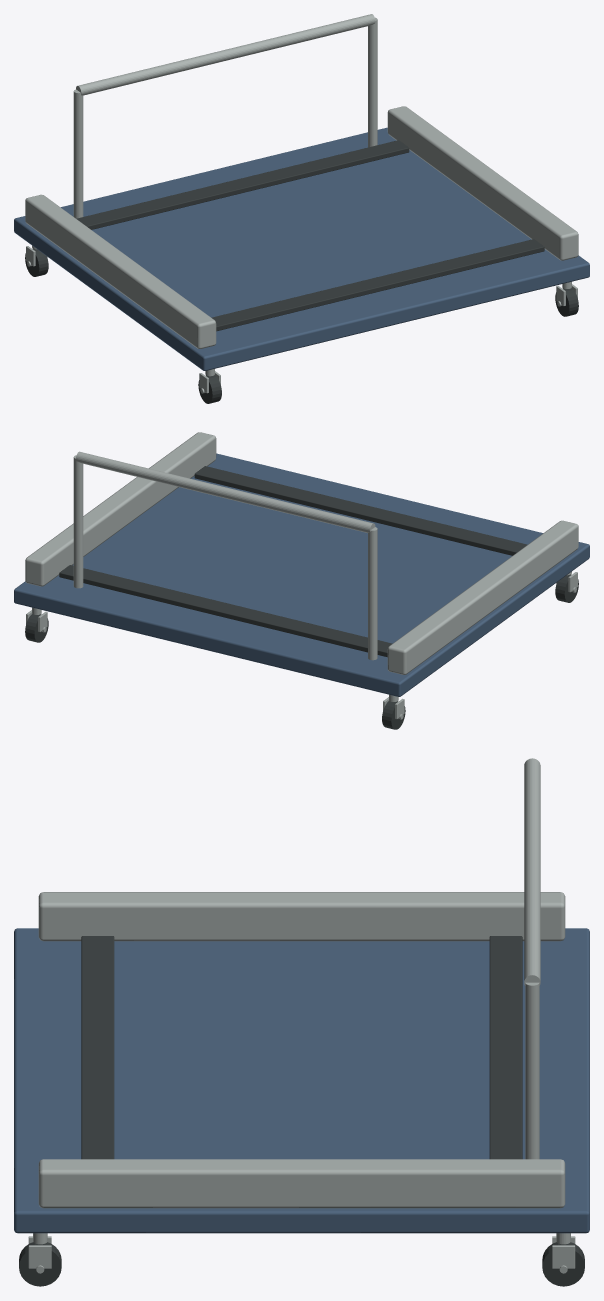
The model's file is spacecraft-parachute-packing-hall-spacecraft-parachute-8092ba12__32119.glb.
The picture shows the model from 3 angles, top to bottom: view 1: azimuth 30°, elevation 25°; view 2: azimuth 150°, elevation 25°; view 3: azimuth 270°, elevation 25°; orthographic projection. The views are drawn at different scales.
Visible parts, largest first — view 1: spacecraft-parachute-packing-hall-recovery-bay-transport-dol (×3); view 2: spacecraft-parachute-packing-hall-recovery-bay-transport-dol (×3); view 3: spacecraft-parachute-packing-hall-recovery-bay-transport-dol (×3).
Boxes of the visible parts, <box> form: spacecraft-parachute-packing-hall-recovery-bay-transport-dol (×3): <box>14,14,589,403</box>; spacecraft-parachute-packing-hall-recovery-bay-transport-dol (×3): <box>14,432,589,729</box>; spacecraft-parachute-packing-hall-recovery-bay-transport-dol (×3): <box>14,758,589,1286</box>.
Bounding box in the file's own units: 2.05 × 0.9551 × 1.75.
